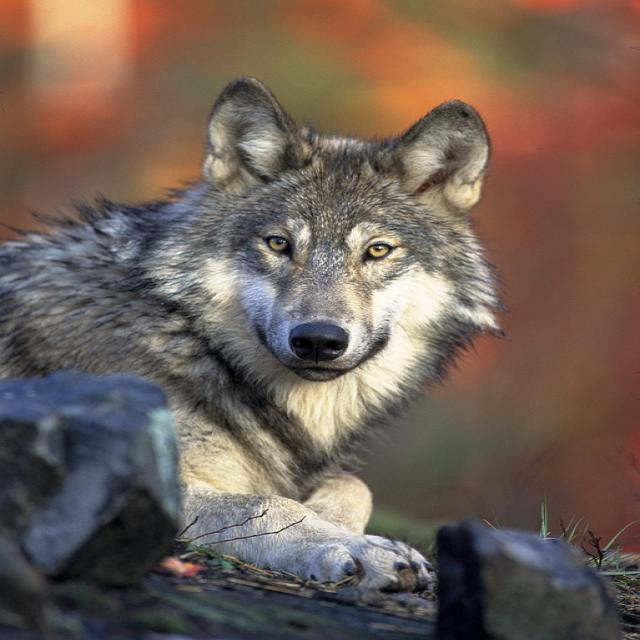Carnivorous: (0, 78, 504, 589)
